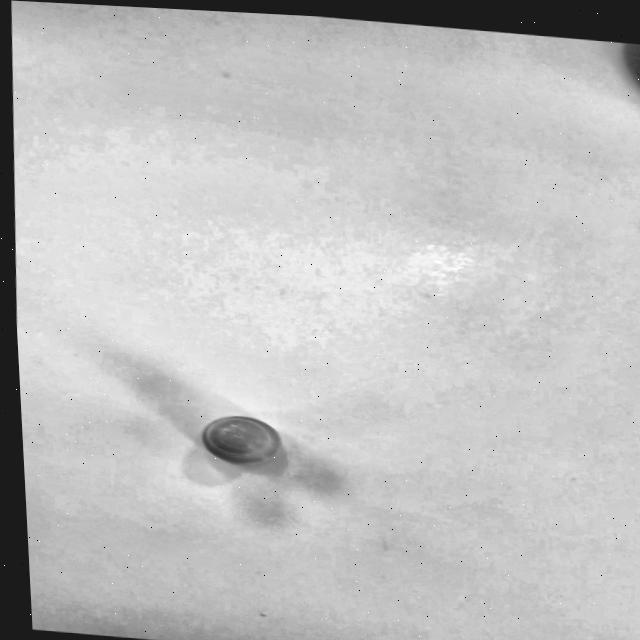white-pawn: (191, 390, 326, 493)
